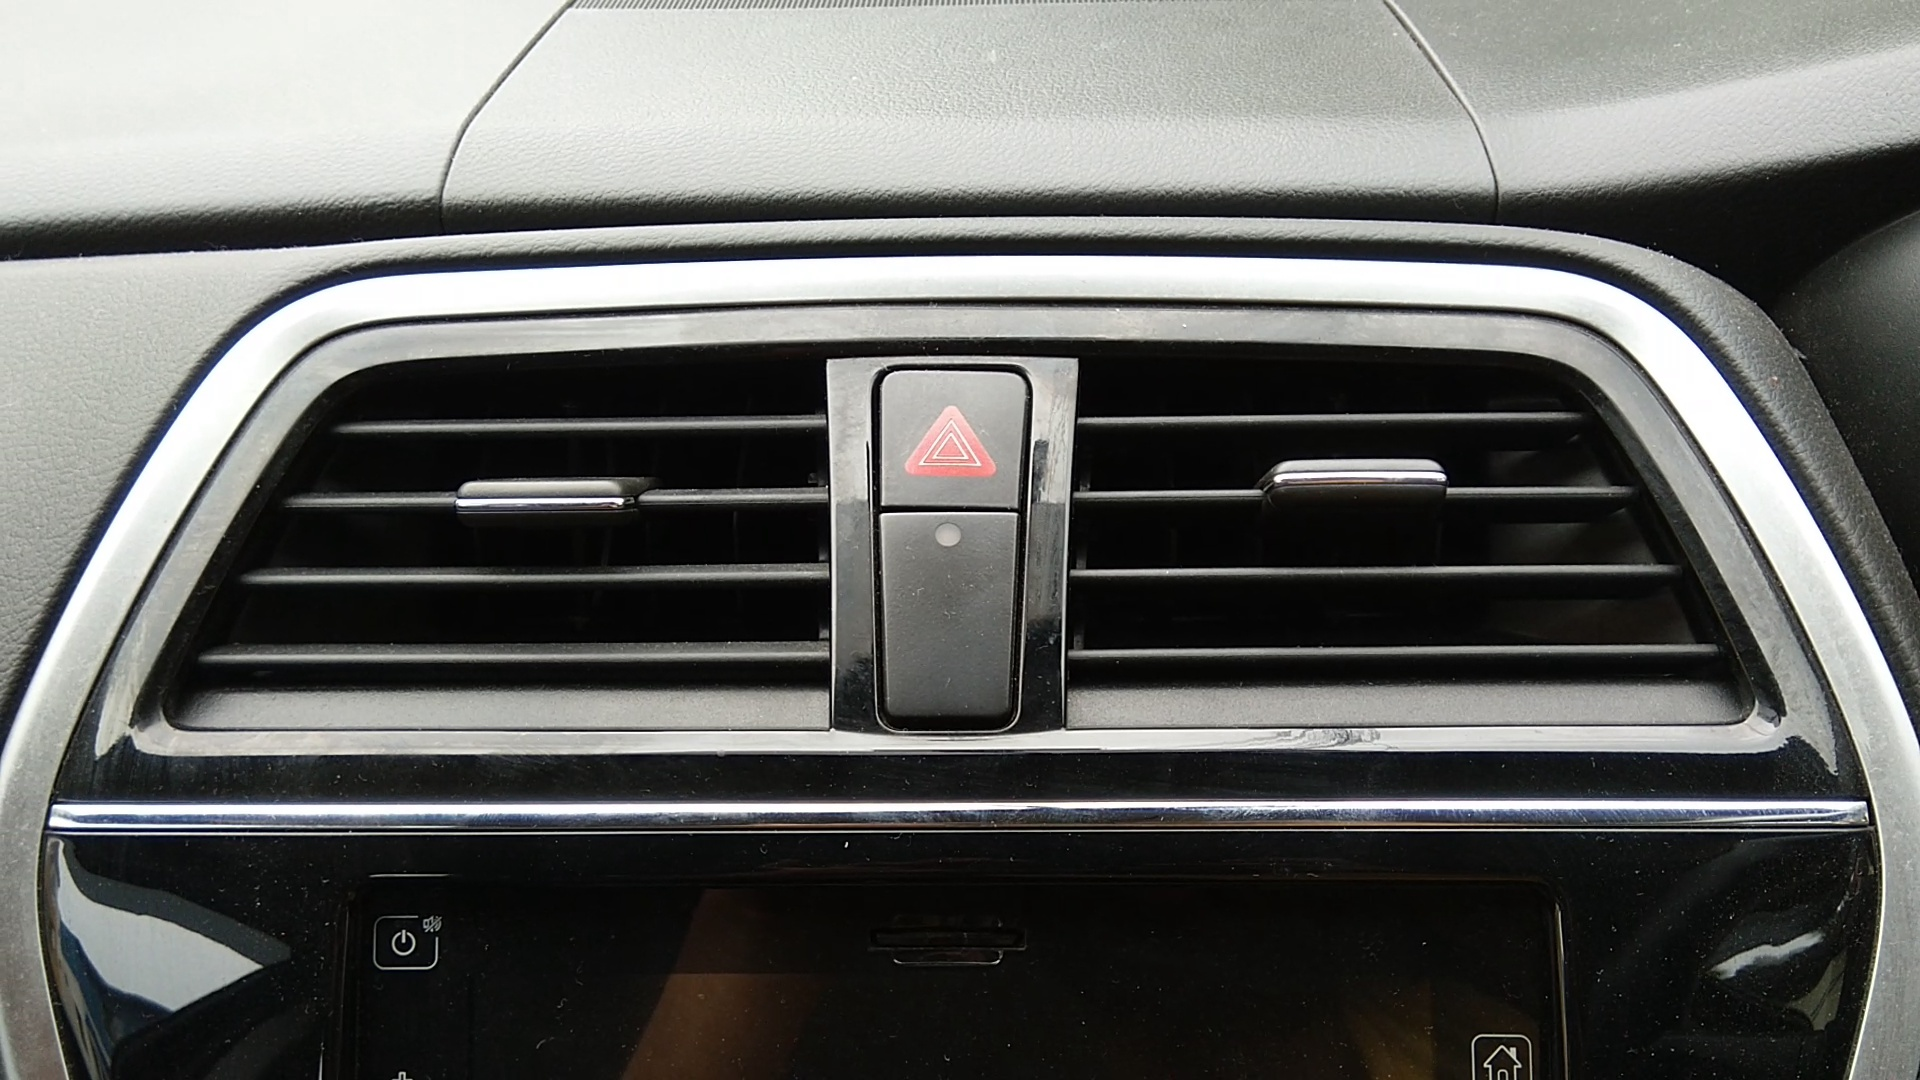parking_button: (899, 386, 1006, 491)
